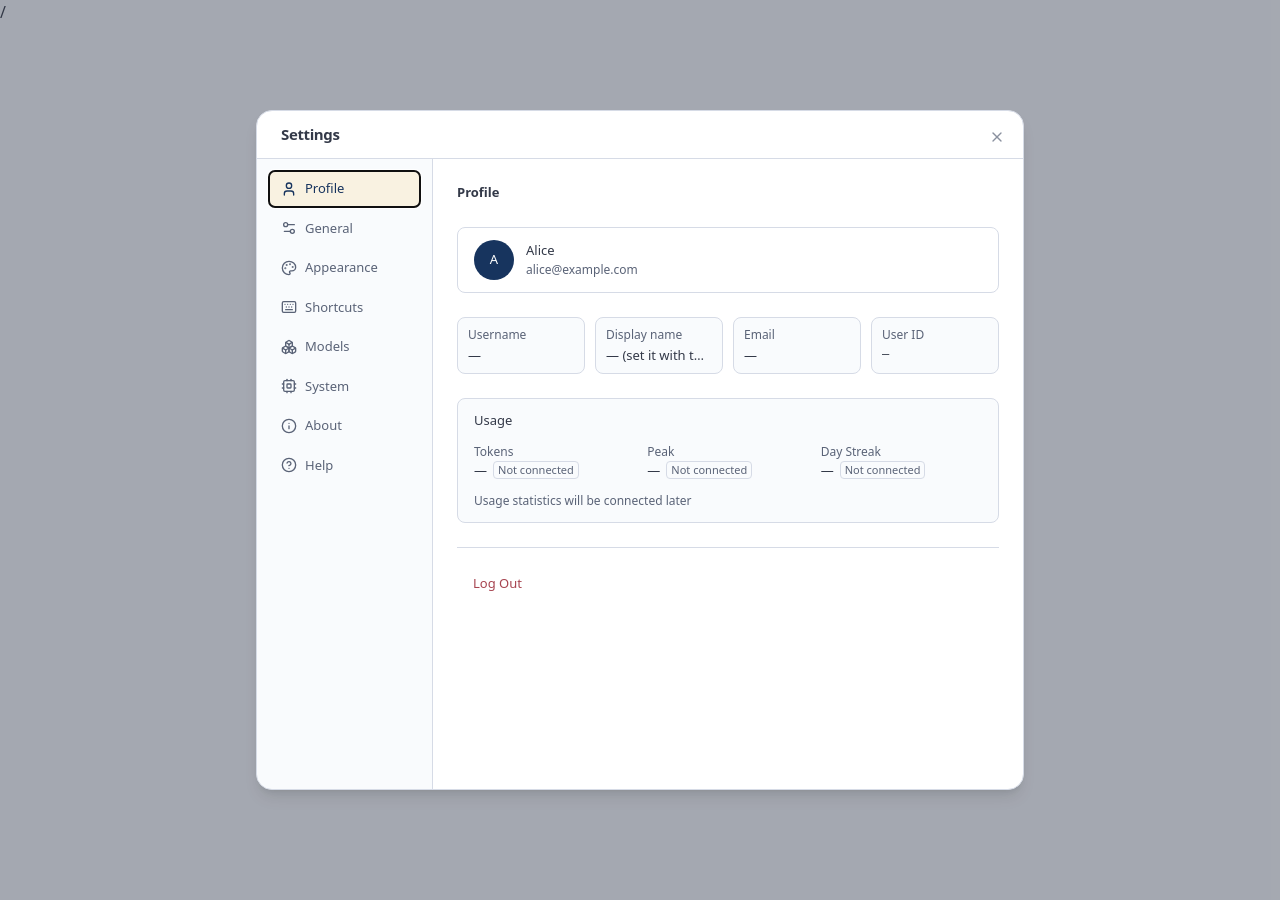
Test: SettingsDialog › B-07：分组可折叠（点组头收起该组模型）
The width and height of the screenshot is (1280, 900).
Click the button with test id "settings-dialog-nav-models" at (344, 347), box [269,329,420,364]
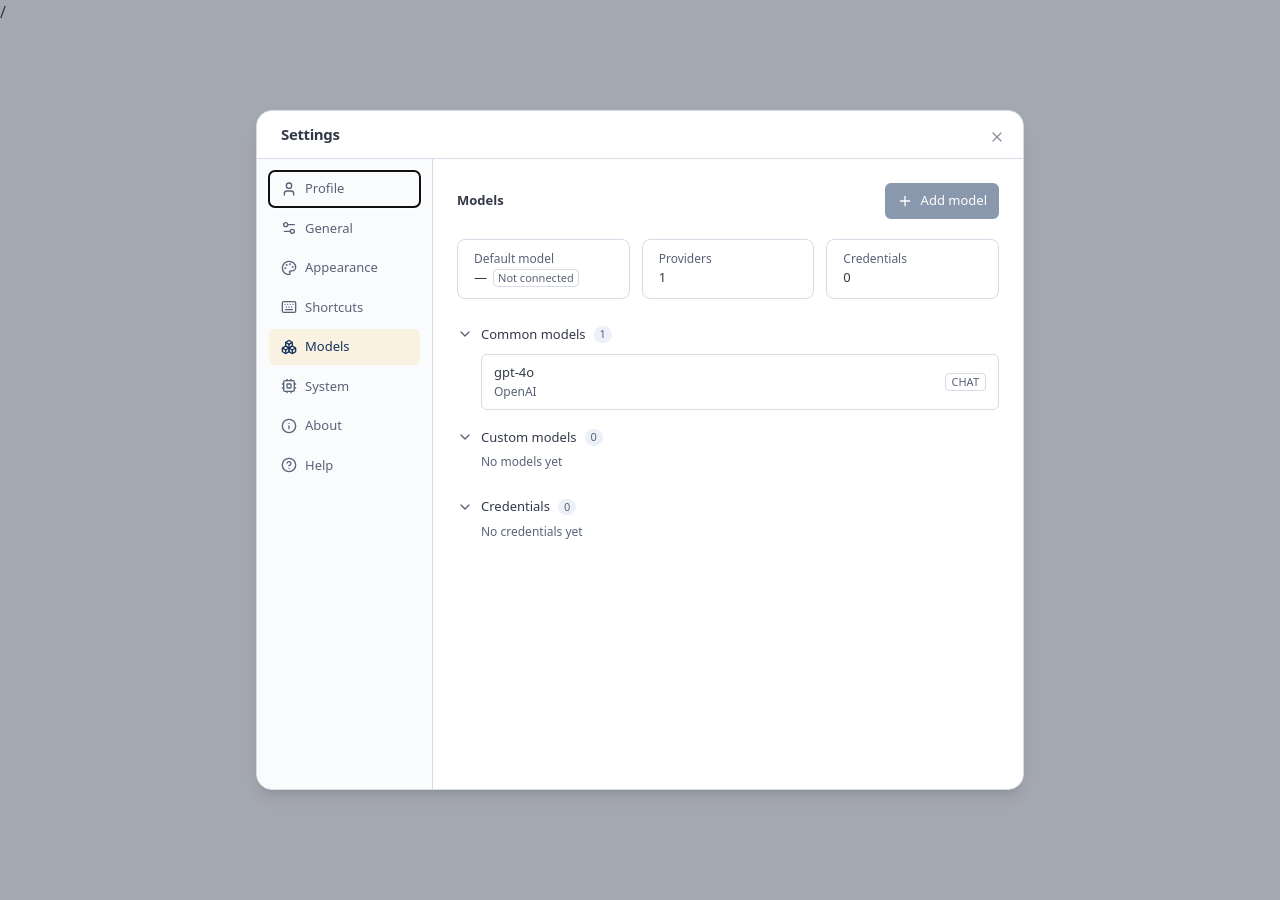
Expected: the list item with test id "settings-models-item-m1" is shown, [481,354,999,410]
Click the button with test id "settings-models-group-common-toggle" at (533, 334), box [457,318,999,350]
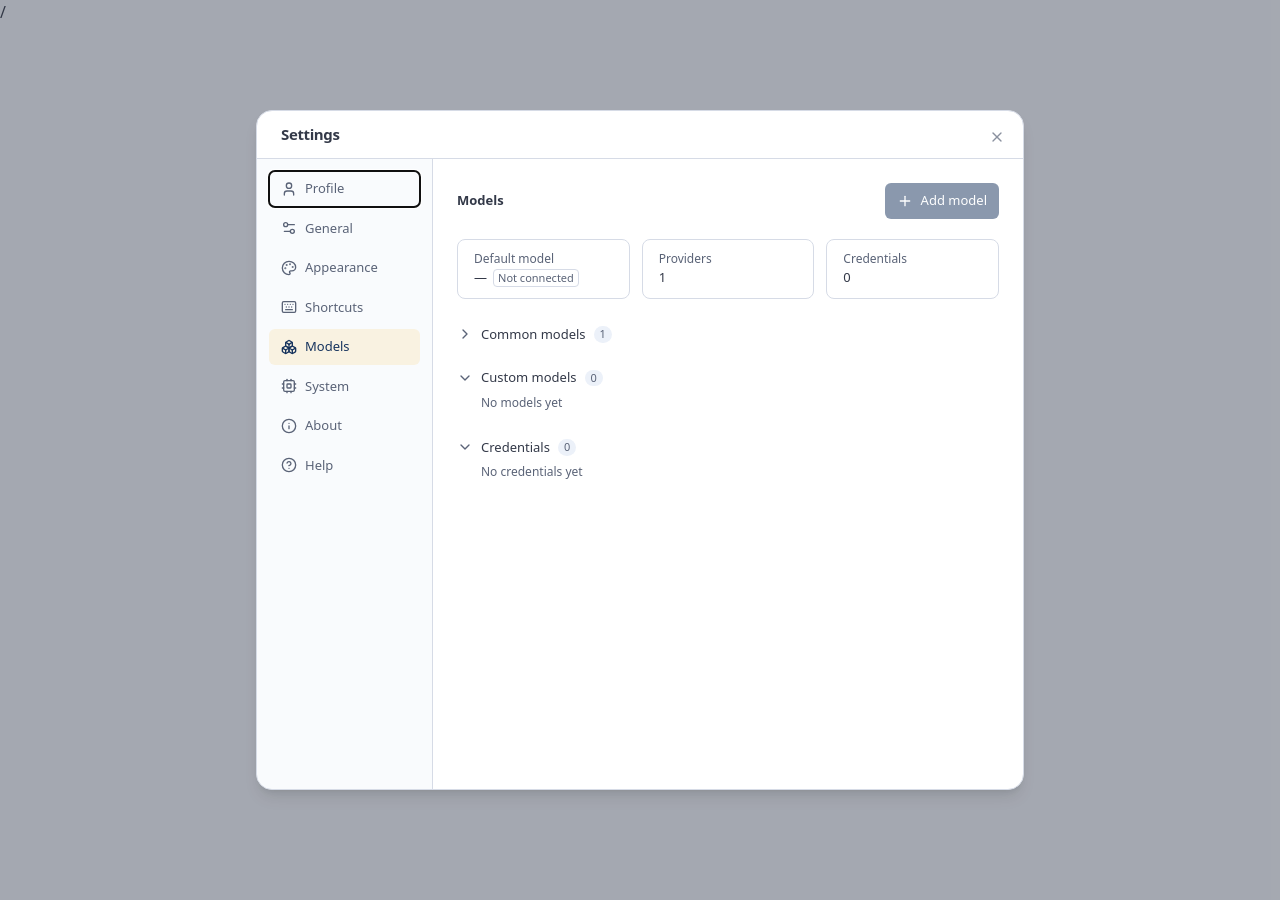
Expected: the button with test id "settings-models-group-common-toggle" is collapsed, [457,318,999,350]
Expected: the list item with test id "settings-models-item-m1" is gone
